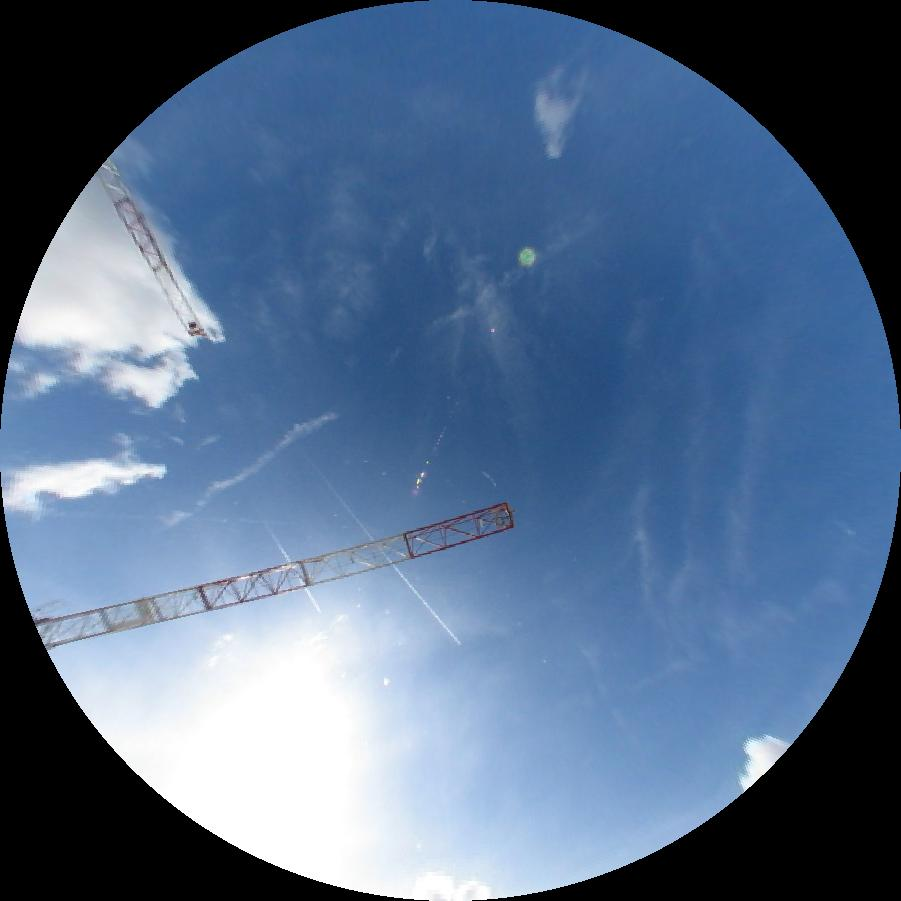contrail young: (293, 442, 462, 645), (261, 521, 322, 613)
parasite: (47, 509, 295, 525)
sun: (141, 658, 354, 863)
unknow: (161, 408, 341, 530)
